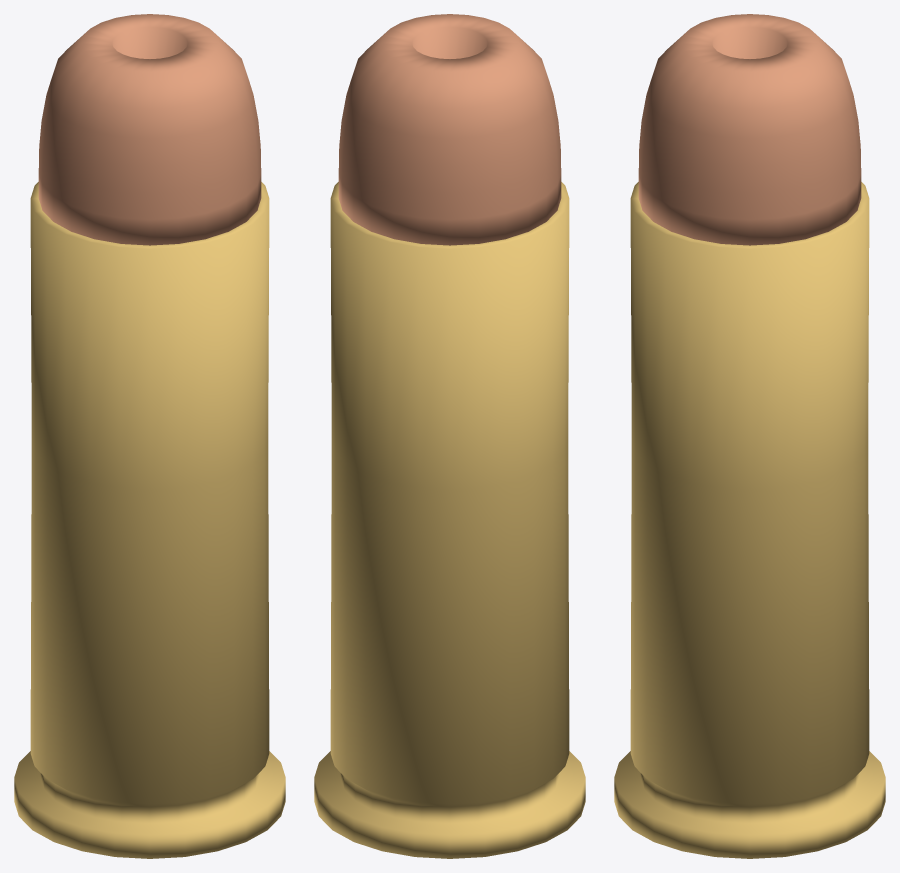
Rendered from 44mag_hp.glb.
3 views of the same model, side by side, from view 1: azimuth 30°, elevation 25°; view 2: azimuth 150°, elevation 25°; view 3: azimuth 270°, elevation 25° (orthographic).
Parts seen in each view (by area): view 1: vaina, bala_hueca; view 2: vaina, bala_hueca; view 3: vaina, bala_hueca.
Part boxes in pixels (bbox=[...]): vaina: bbox=[14, 182, 285, 858]; bala_hueca: bbox=[38, 14, 261, 245]; vaina: bbox=[314, 182, 585, 858]; bala_hueca: bbox=[338, 14, 561, 245]; vaina: bbox=[614, 182, 885, 858]; bala_hueca: bbox=[638, 14, 861, 245].
Bounding box in the file's own units: 0.0133 × 0.041 × 0.0133.
